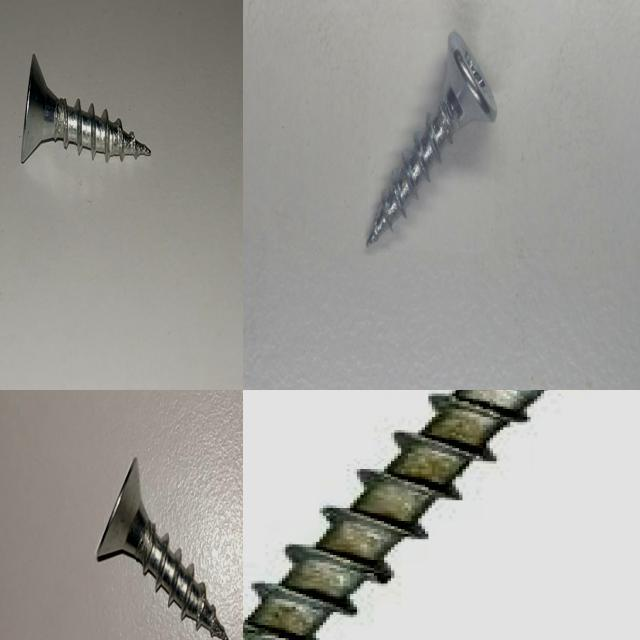Screw: (243, 390, 543, 640), (367, 30, 497, 245), (96, 457, 229, 640), (21, 53, 151, 161)
